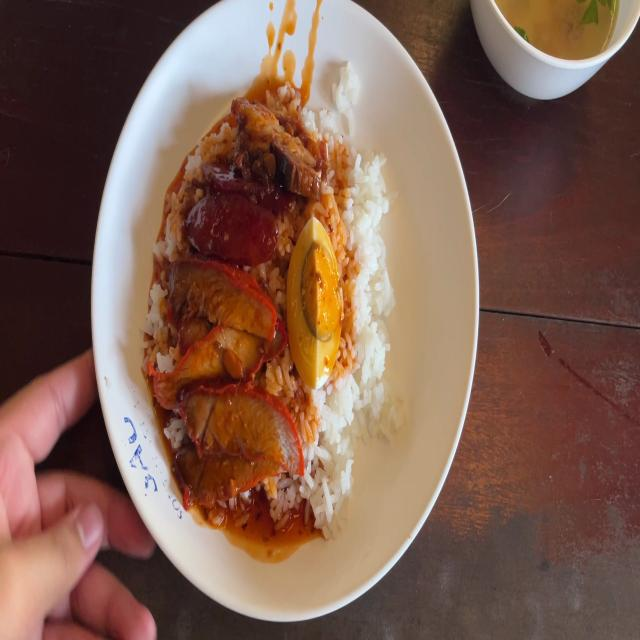red_pork_and_crispy_pork: (290, 226, 338, 376)
stir_fried_basil: (186, 167, 282, 261)
